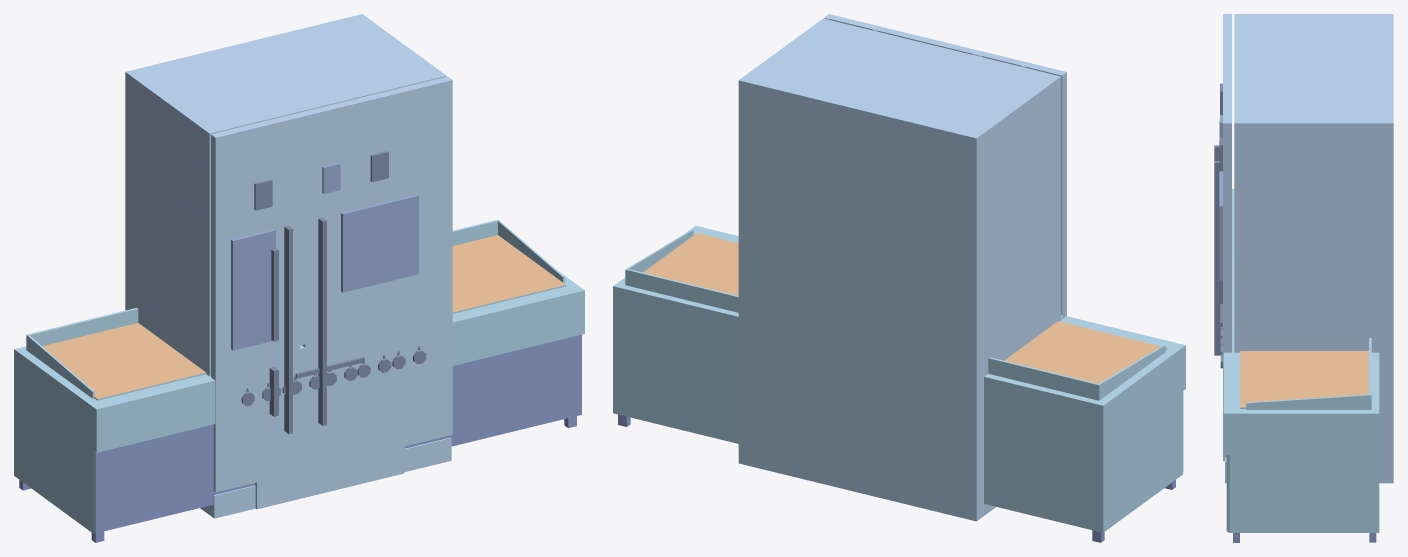
File: kitchen.fbx
3 views of the same model, side by side, from view 1: azimuth 30°, elevation 25°; view 2: azimuth 150°, elevation 25°; view 3: azimuth 270°, elevation 25° (orthographic). The views are drawn at different scales.
Visible parts, largest first — view 1: Kitchen5, Kitchen1, Kitchen6, Kitchen4; view 2: Kitchen5, Kitchen1, Kitchen6; view 3: Kitchen5, Kitchen1, Kitchen6, Kitchen2.
Part boxes in pixels (bbox=[...]): Kitchen5: bbox=[125, 14, 452, 518]; Kitchen1: bbox=[14, 219, 584, 542]; Kitchen6: bbox=[167, 27, 404, 509]; Kitchen4: bbox=[241, 346, 426, 406]; Kitchen5: bbox=[738, 14, 1066, 521]; Kitchen1: bbox=[613, 225, 1185, 542]; Kitchen6: bbox=[787, 26, 1025, 501]; Kitchen5: bbox=[1214, 14, 1393, 483]; Kitchen1: bbox=[1223, 188, 1379, 542]; Kitchen6: bbox=[1220, 33, 1393, 461]; Kitchen2: bbox=[1220, 263, 1234, 326].
Bounding box in the file's own units: 150 × 112 × 50.31.
